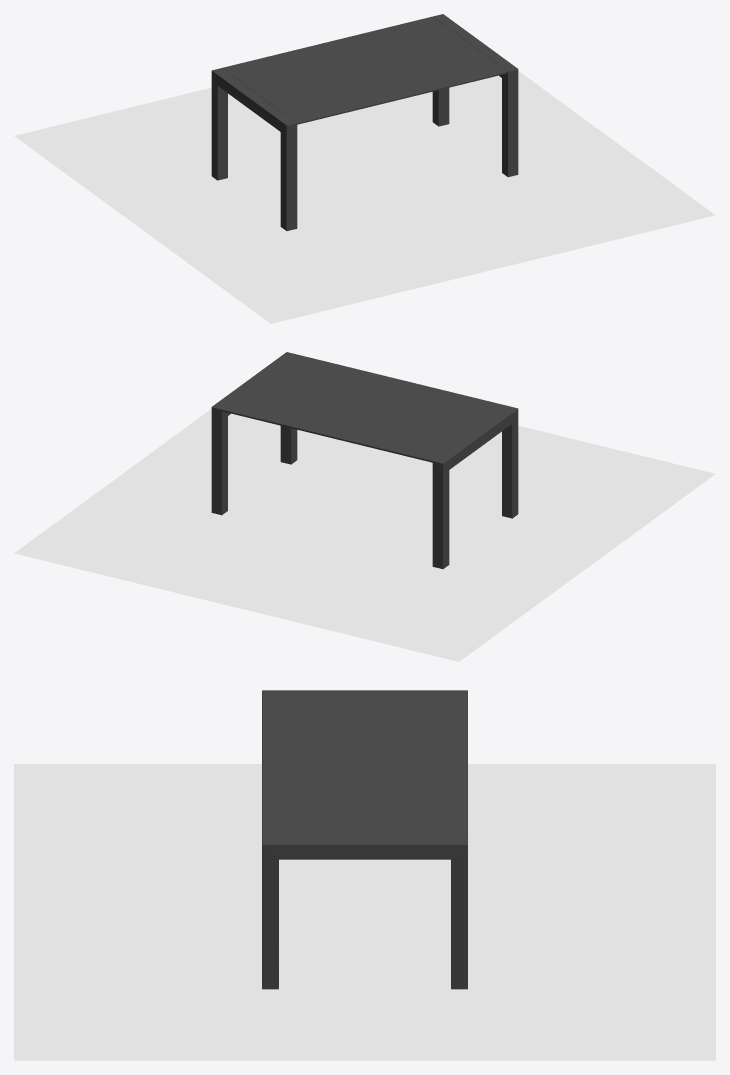
Rendered from table25.glb.
The picture shows the model from 3 angles, top to bottom: view 1: azimuth 30°, elevation 25°; view 2: azimuth 150°, elevation 25°; view 3: azimuth 270°, elevation 25°; orthographic projection. The views are drawn at different scales.
Parts seen in each view (by area): view 1: Plane001, Bramante_Extending_Dining_Table_Grey_Matt_GREY_MATT_0; view 2: Plane001, Bramante_Extending_Dining_Table_Grey_Matt_GREY_MATT_0; view 3: Plane001, Bramante_Extending_Dining_Table_Grey_Matt_GREY_MATT_0.
Boxes of the visible parts, bbox=[...] form: Plane001: bbox=[14, 71, 715, 323]; Bramante_Extending_Dining_Table_Grey_Matt_GREY_MATT_0: bbox=[211, 14, 518, 230]; Plane001: bbox=[14, 409, 715, 661]; Bramante_Extending_Dining_Table_Grey_Matt_GREY_MATT_0: bbox=[211, 352, 518, 568]; Plane001: bbox=[14, 764, 715, 1060]; Bramante_Extending_Dining_Table_Grey_Matt_GREY_MATT_0: bbox=[262, 690, 467, 989].
Size of the model in its own units: 334 by 76.03 by 334.
Materials: 3 (1 with a texture image).
